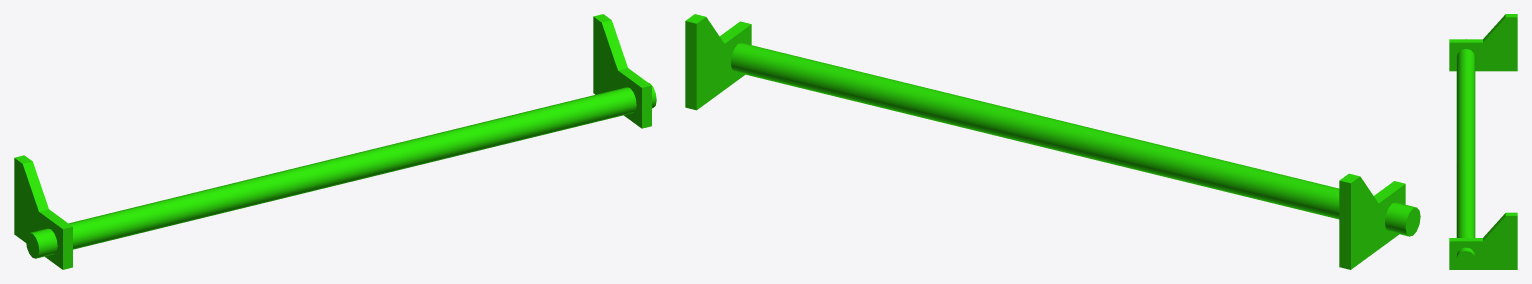
The model's file is Kitchen_Shelf_05_Lod0.fbx.
3 views of the same model, side by side, from view 1: azimuth 30°, elevation 25°; view 2: azimuth 150°, elevation 25°; view 3: azimuth 270°, elevation 25° (orthographic). The views are drawn at different scales.
Visible parts, largest first — view 1: Kitchen_Shelf_05_Lod0; view 2: Kitchen_Shelf_05_Lod0; view 3: Kitchen_Shelf_05_Lod0.
Part boxes in pixels (left/top/right/bottom): Kitchen_Shelf_05_Lod0: left=14, top=14, right=656, bottom=269; Kitchen_Shelf_05_Lod0: left=685, top=14, right=1420, bottom=269; Kitchen_Shelf_05_Lod0: left=1449, top=14, right=1517, bottom=269.
Size of the model in its own units: 50.73 by 6.02 by 6.92.
